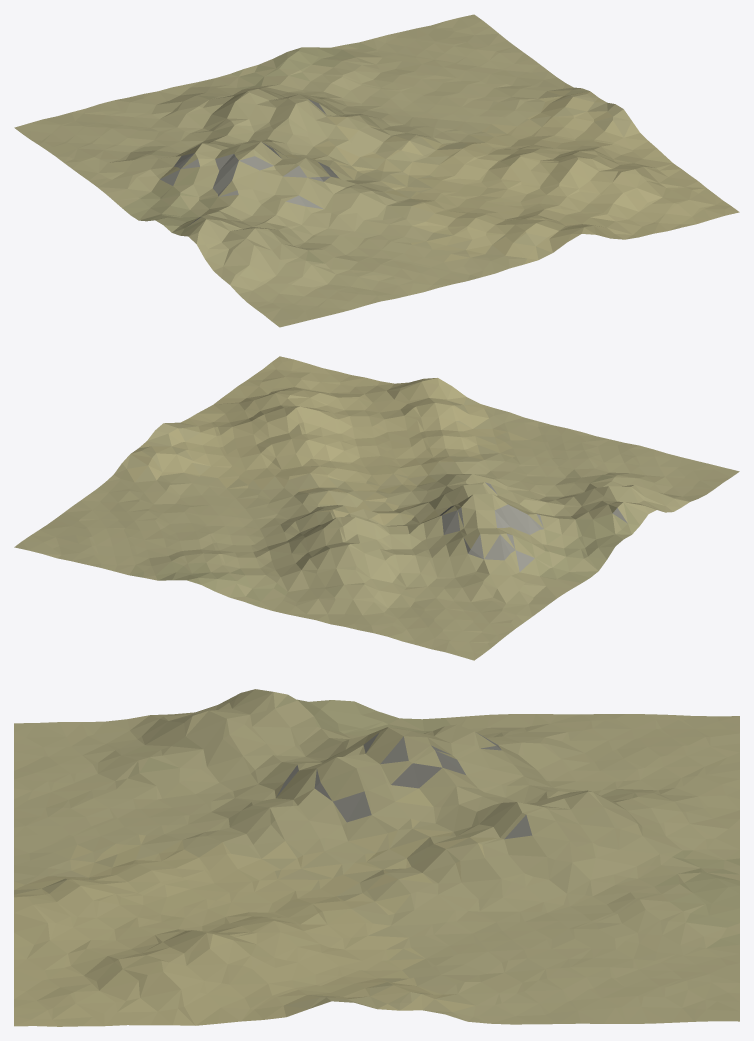
File: Ground_-3_-8.glb
3 renders of one model, top to bottom at view 1: azimuth 30°, elevation 25°; view 2: azimuth 150°, elevation 25°; view 3: azimuth 270°, elevation 25°, orthographic. The views are drawn at different scales.
Visible parts, largest first — view 1: Ground_-3_-8; view 2: Ground_-3_-8; view 3: Ground_-3_-8.
Part boxes in pixels (x1,y1,x2,y2): Ground_-3_-8: (14, 14, 739, 327); Ground_-3_-8: (14, 356, 739, 660); Ground_-3_-8: (14, 689, 739, 1026).
Size of the model in its own units: 768 by 81.47 by 768.
